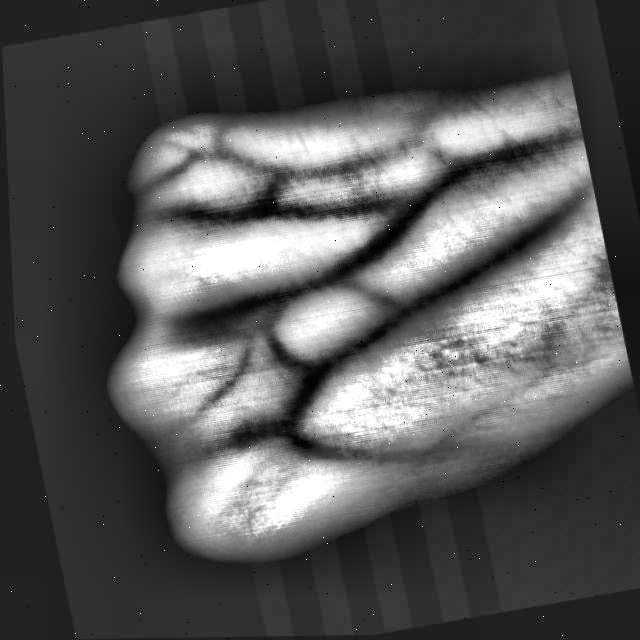Vein: (326, 232, 531, 372), (289, 170, 461, 323)
